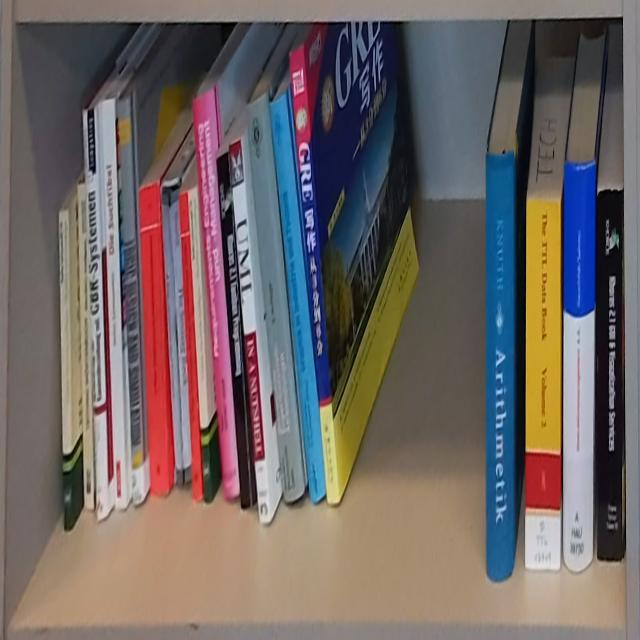Book Spine: (246, 91, 305, 502), (270, 91, 326, 503), (289, 46, 339, 506), (192, 88, 239, 500), (230, 140, 272, 525), (525, 200, 562, 572), (563, 157, 596, 574), (217, 152, 252, 510), (486, 152, 514, 582), (100, 97, 128, 511), (82, 106, 109, 522), (118, 94, 144, 506), (597, 189, 623, 562), (139, 181, 169, 497), (188, 187, 212, 505), (180, 192, 203, 501), (163, 187, 184, 485), (172, 189, 192, 483), (77, 182, 93, 511), (59, 210, 72, 531)
